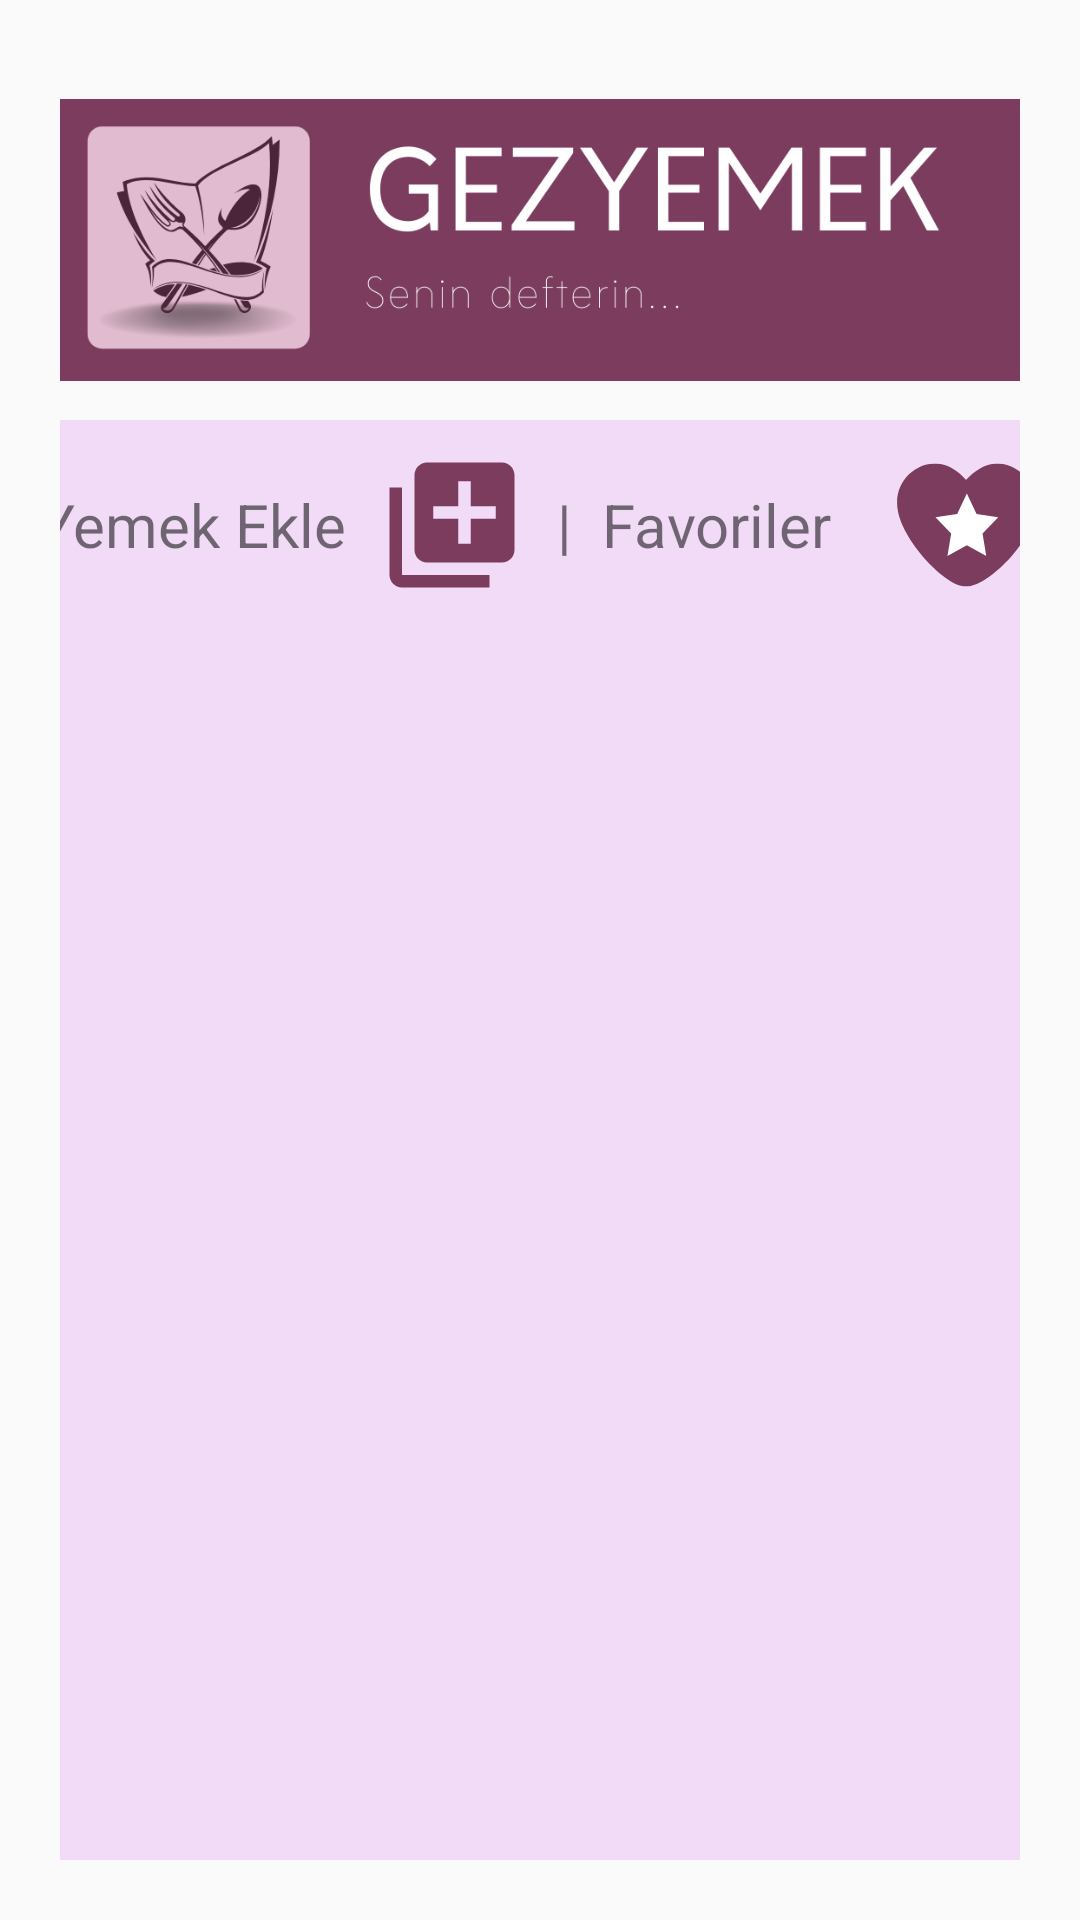

Icons on this 1080w x 1920h Android screen, each with its box as (x1, y1, x2, y2):
library add: (389, 462, 515, 588)
